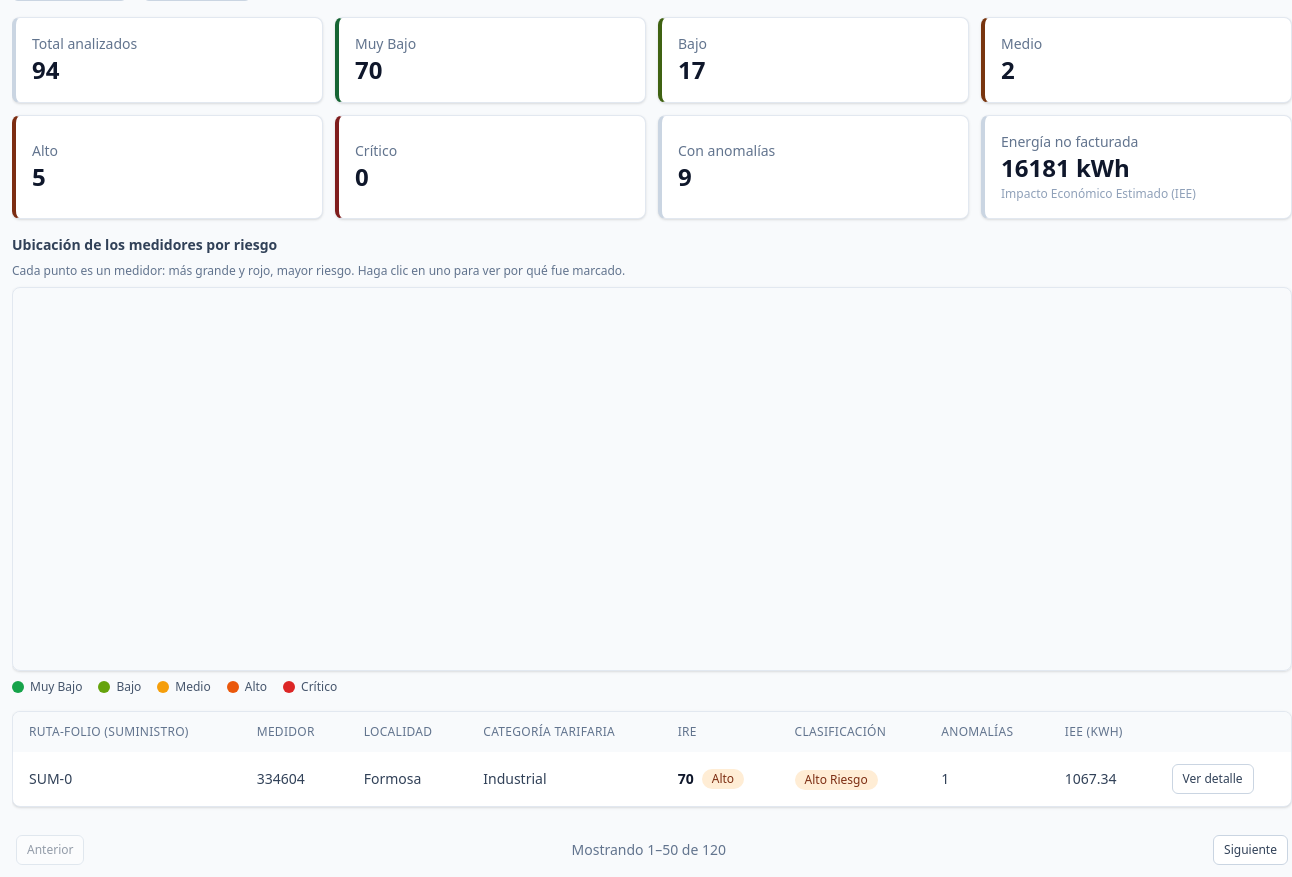
Test case: RankingPage › moves to the next/previous page when the pagination buttons are clicked
(page scrolled)
Check: the text "SUM-0" is shown, box left=13, top=752, right=241, bottom=806
What coordinates should you click on to do the following:
click the button "Siguiente"
I would click on:
 (1251, 850)
Its box is left=1213, top=835, right=1288, bottom=865.
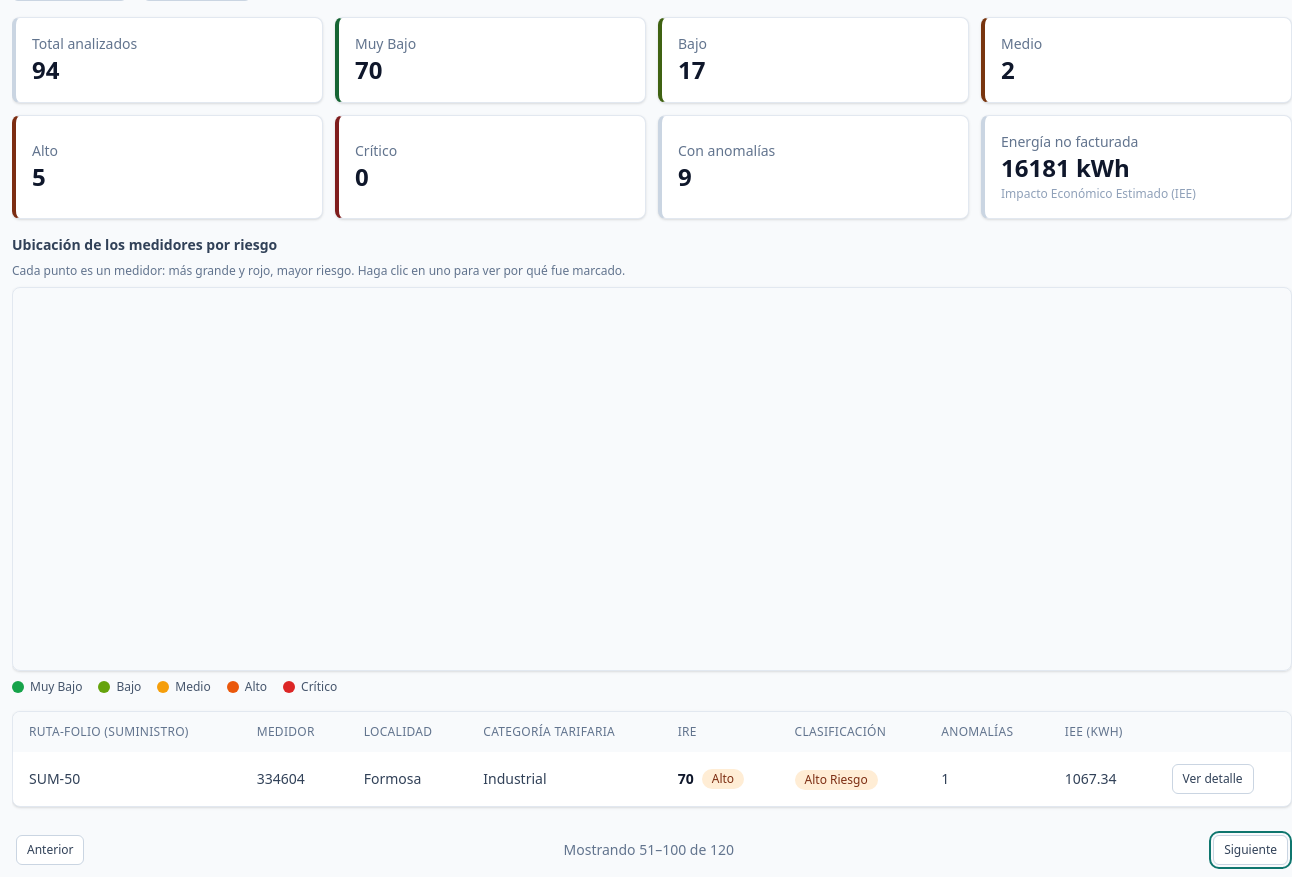
Check: the text "SUM-50" is shown, box left=13, top=752, right=241, bottom=806
What coordinates should you click on to do the following:
click the button "Anterior"
I would click on:
 (50, 850)
Its box is left=16, top=835, right=84, bottom=865.
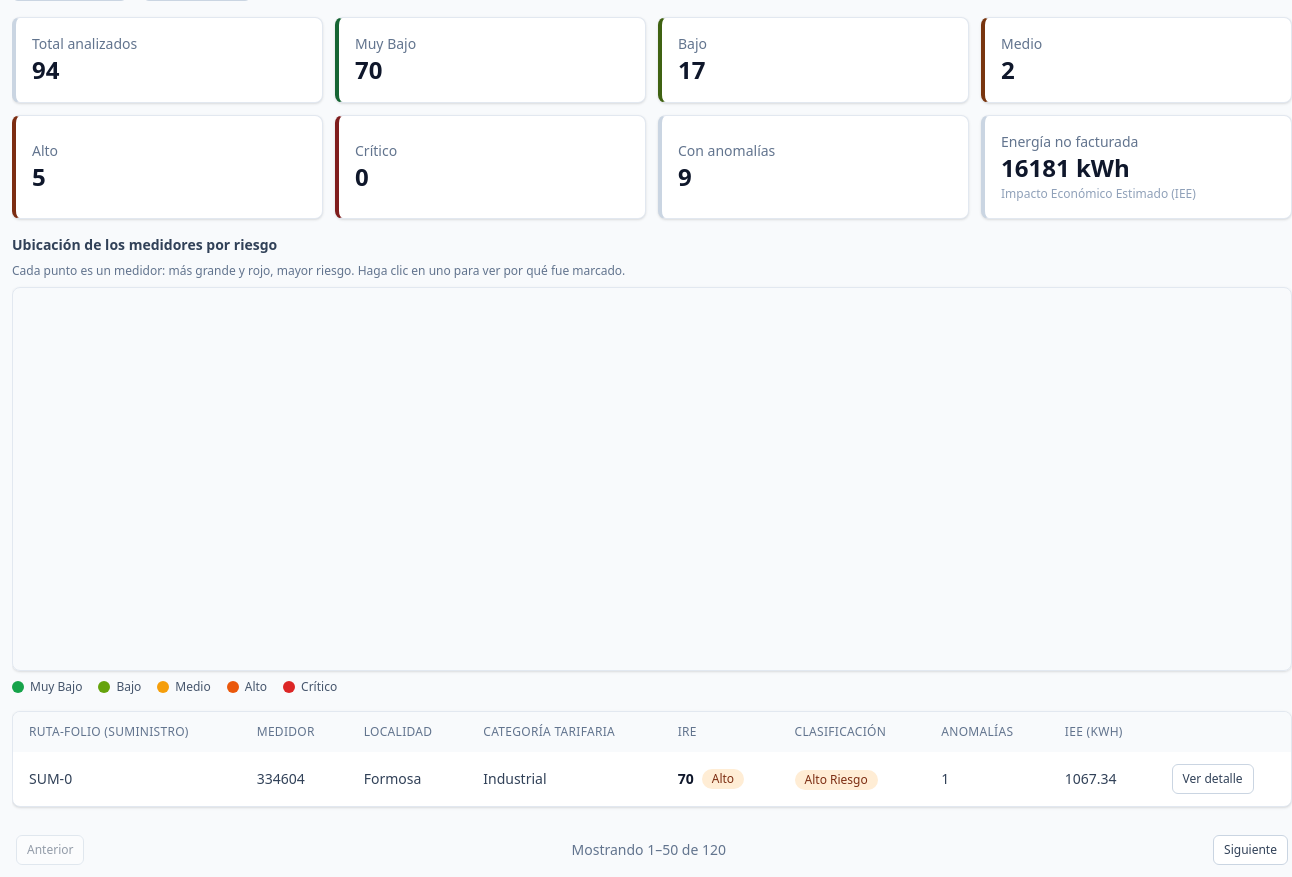
Check: the text "SUM-0" is shown, box left=13, top=752, right=241, bottom=806
